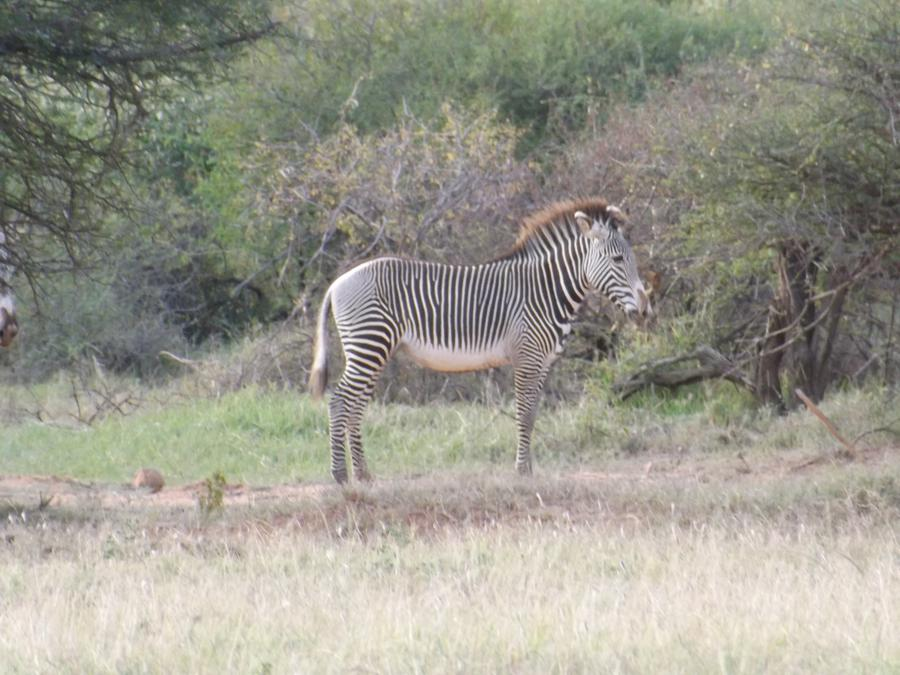zebra_grevys: (303, 239, 549, 363)
